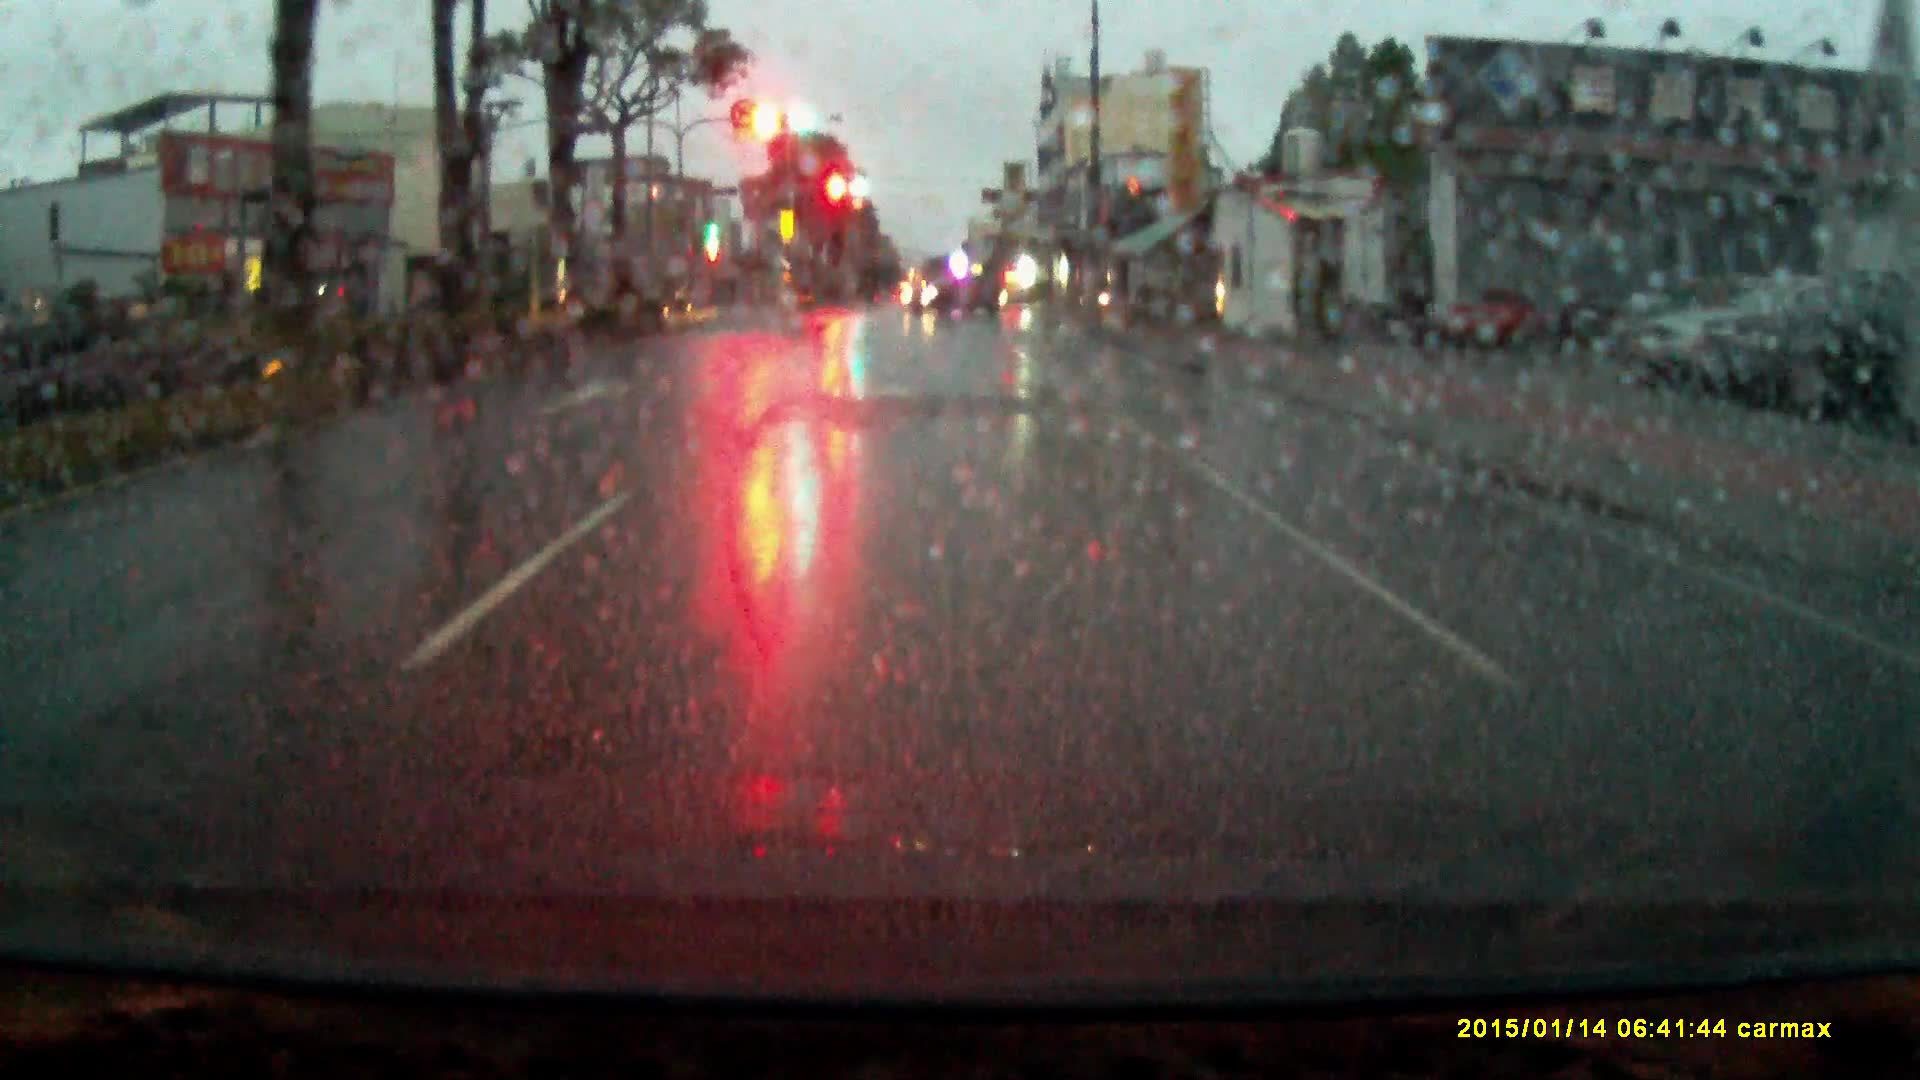vehicle: (1630, 277, 1920, 406), (1751, 285, 1920, 422), (905, 276, 1000, 322)
